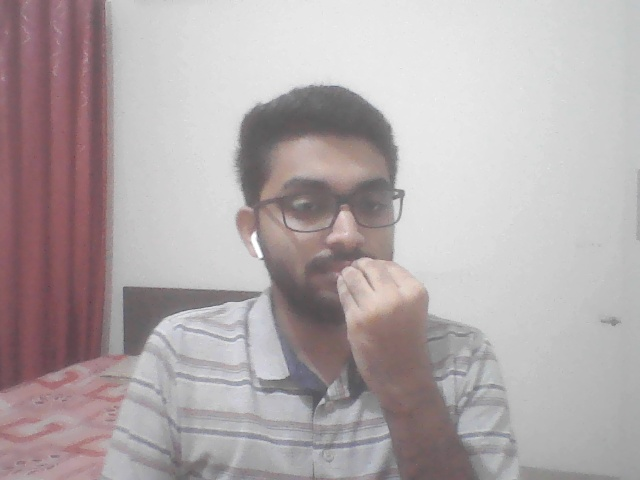eat: (299, 245, 465, 436)
